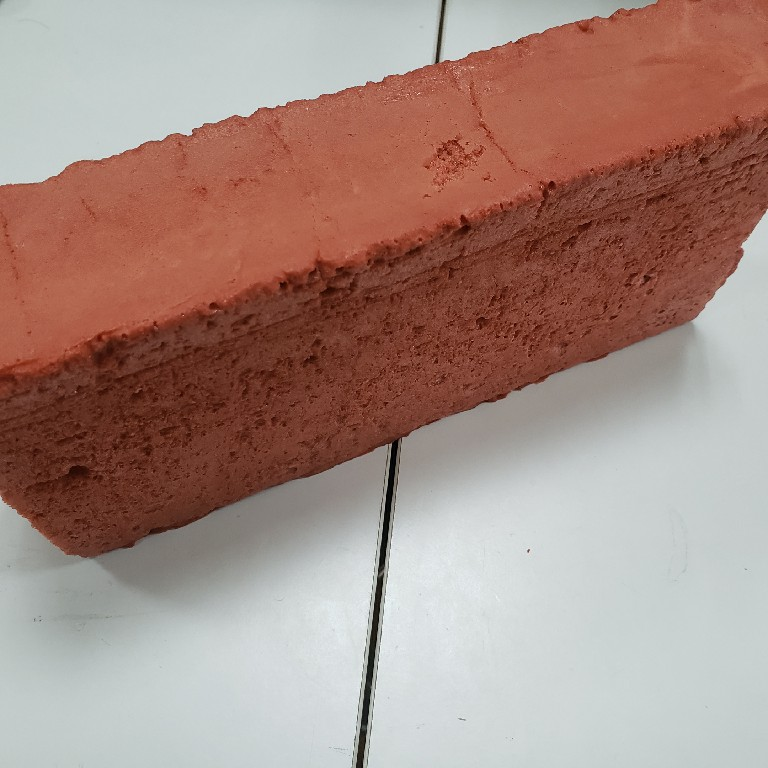brick: (1, 1, 768, 567)
